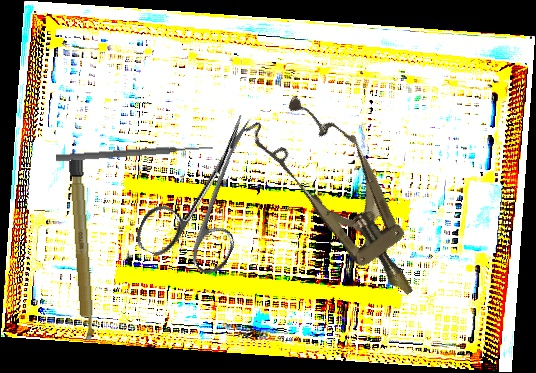Iris Scissors: (131, 96, 286, 284)
Pusher: (55, 142, 214, 164)
Scalpel Handle: (67, 159, 96, 342)
Speculum: (241, 79, 447, 320)
